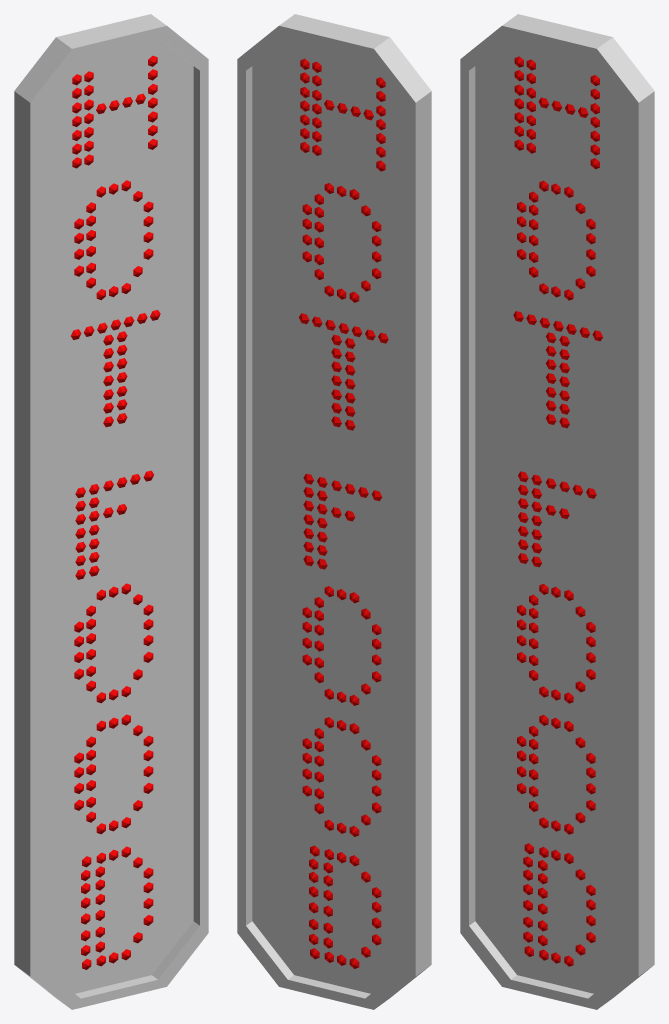
File: Sign6.fbx
3 views of the same model, side by side, from view 1: azimuth 30°, elevation 25°; view 2: azimuth 150°, elevation 25°; view 3: azimuth 330°, elevation 25° (orthographic).
Visible parts, largest first — view 1: Cube.003; view 2: Cube.003; view 3: Cube.003.
Part boxes in pixels (left/top/right/bottom): Cube.003: left=14, top=14, right=208, bottom=1009; Cube.003: left=237, top=14, right=431, bottom=1009; Cube.003: left=460, top=14, right=654, bottom=1009.
Size of the model in its own units: 8.45 by 43.45 by 1.31.
